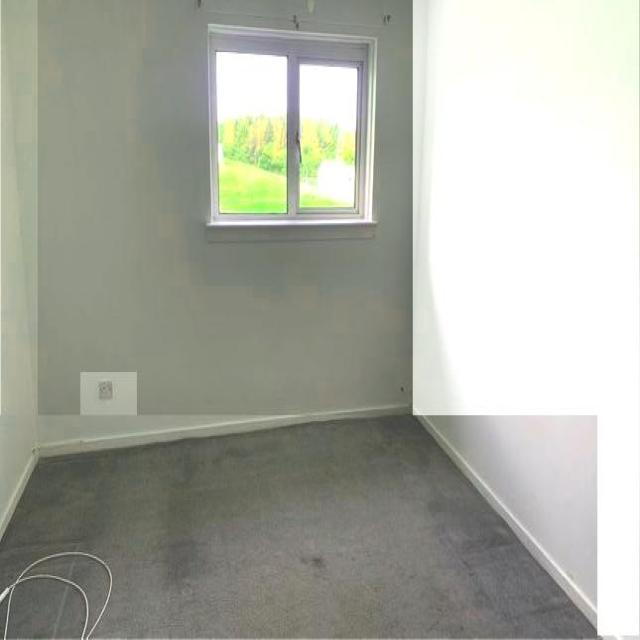Wall: (5, 0, 426, 442), (414, 0, 639, 636), (0, 416, 597, 639), (1, 0, 38, 536), (33, 559, 107, 627), (7, 581, 84, 639), (81, 373, 137, 435)
